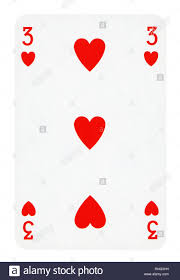three of hearts: (15, 15, 166, 249)
